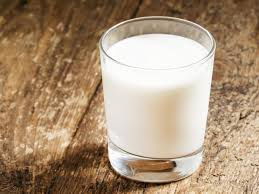produk_susu: (112, 38, 200, 147)
